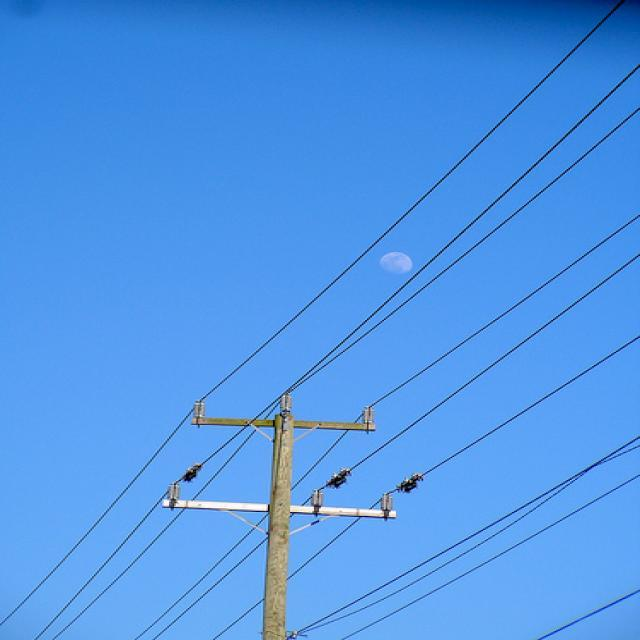crossarm: (159, 485, 396, 526), (191, 397, 377, 435)
pole: (263, 396, 314, 640)
wire: (4, 0, 632, 631), (32, 61, 640, 640), (52, 104, 640, 640), (131, 211, 640, 640), (149, 251, 640, 640), (211, 332, 640, 640), (285, 435, 640, 638), (335, 468, 640, 640), (531, 584, 640, 640)
